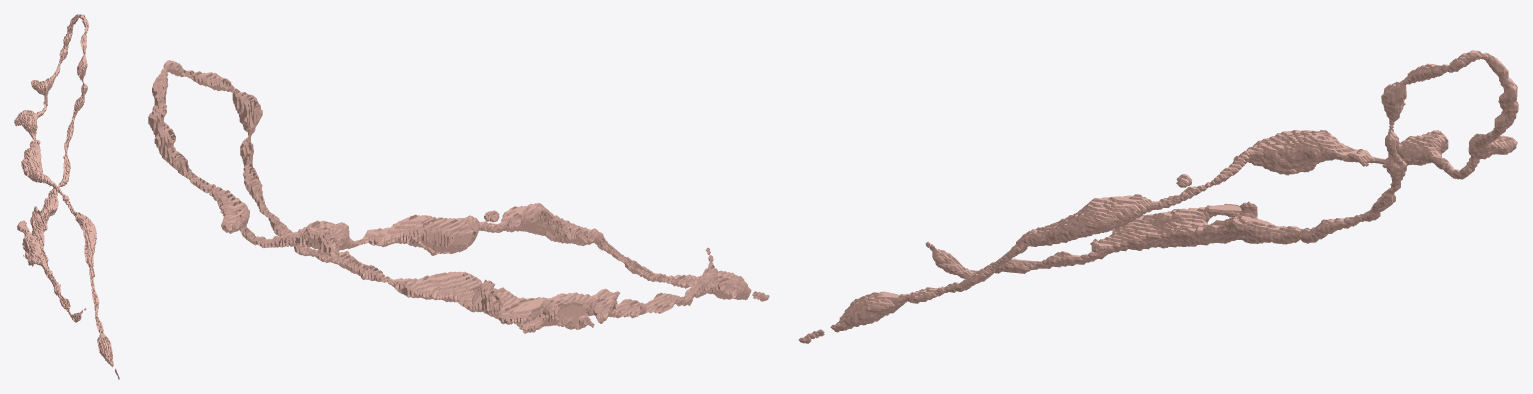
File: SVV_SMBVR.gltf
The picture shows the model from 3 angles, left to right: view 1: azimuth 30°, elevation 25°; view 2: azimuth 150°, elevation 25°; view 3: azimuth 270°, elevation 25°; orthographic projection. The views are drawn at different scales.
Parts seen in each view (by area): view 1: SMBVR; view 2: SMBVR; view 3: SMBVR.
Boxes of the visible parts, bbox=[...] form: SMBVR: bbox=[14, 14, 119, 379]; SMBVR: bbox=[148, 60, 769, 333]; SMBVR: bbox=[798, 50, 1518, 343].
Size of the model in its own units: 81729 by 114125 by 177788.
